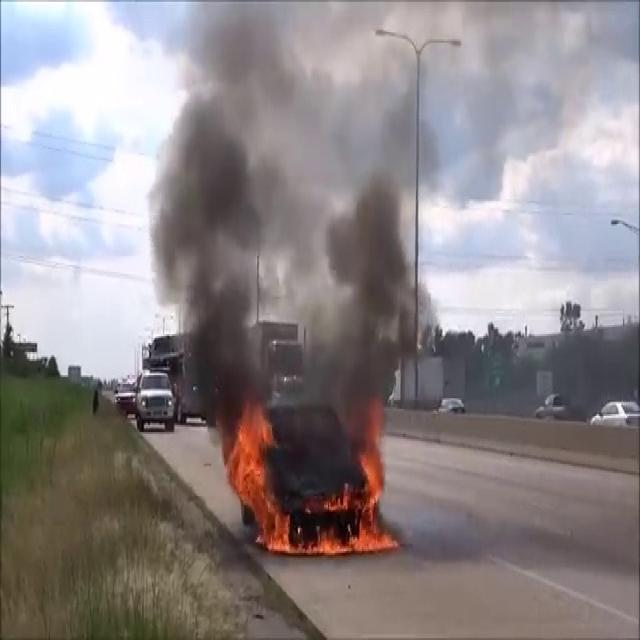Fire: (225, 407, 402, 560), (226, 396, 286, 550)
Smoke: (146, 2, 434, 426), (148, 1, 294, 410)
